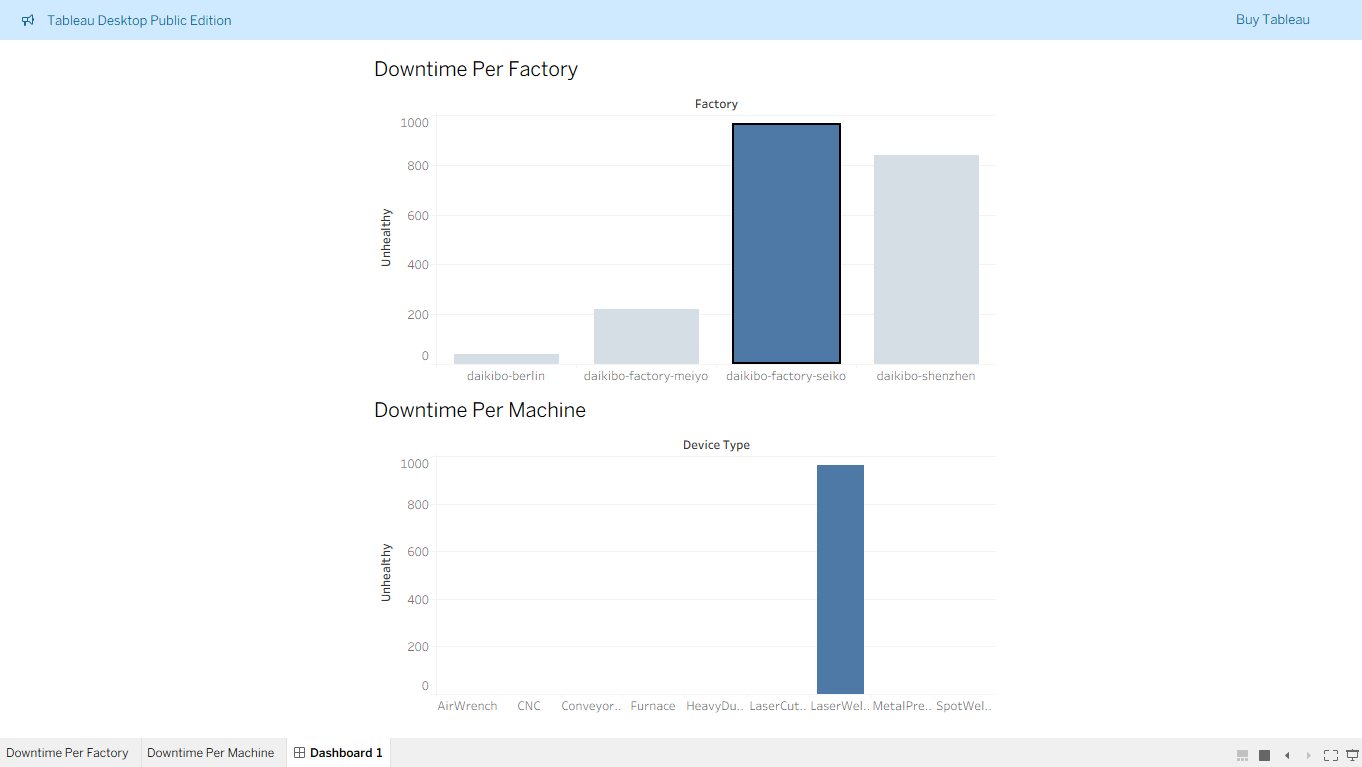

What the dashboard file says about the page in this screenshot:
{"tool":"tableau","page":{"name":"Dashboard 1","canvas":[650,860],"ordinal":0},"visuals":[{"type":"worksheet","title":"Downtime Per Factory","mark":"Automatic","rows":["Calculation_935904338441617409"],"cols":["factory"],"box":[8,12.3,634,417.7]},{"type":"worksheet","title":"Downtime Per Machine","mark":"Automatic","rows":["Calculation_935904338441617409"],"cols":["deviceType"],"box":[8,430,634,417.7]}]}

Visuals, with their boxes on the page's 650x860 design canvas (x1, y1, x2, y2). These are canvas units, not pixel positions in the 1362x767 screenshot, which may show the page scaled, cropped or inside an application window:
"Downtime Per Factory" worksheet: rect(8, 12, 642, 430)
"Downtime Per Machine" worksheet: rect(8, 430, 642, 848)
